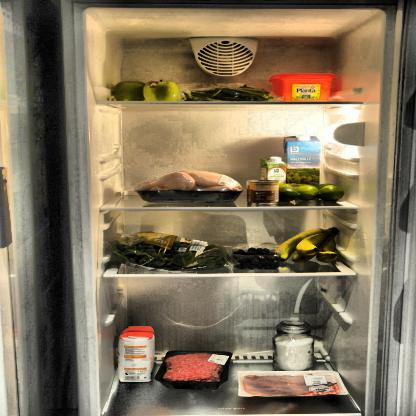apple: (104, 77, 181, 103)
banana: (275, 227, 343, 265)
blueberries: (226, 244, 285, 271)
butter: (267, 72, 345, 100)
chicken: (136, 170, 244, 202)
corn: (246, 179, 281, 206)
green_beans: (180, 82, 287, 105)
ground_beef: (161, 348, 232, 392)
heavy_cream: (260, 156, 288, 197)
lime: (278, 182, 350, 204)
milk: (285, 136, 317, 201)
spinach: (108, 232, 232, 271)
